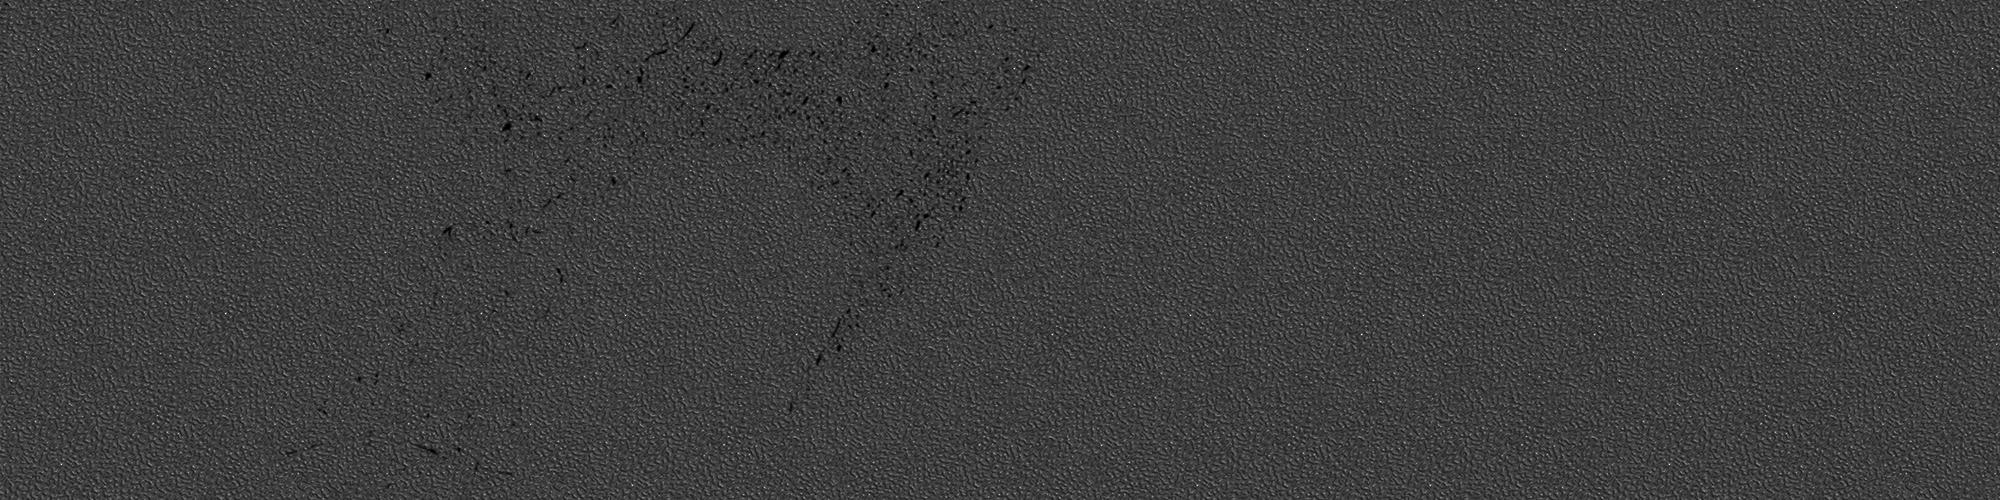Decomposed: (420, 23, 1031, 168), (786, 138, 989, 296), (253, 378, 526, 486), (441, 181, 547, 272), (802, 292, 878, 388), (551, 159, 639, 226), (490, 276, 526, 311), (550, 251, 573, 301), (786, 392, 807, 415)
